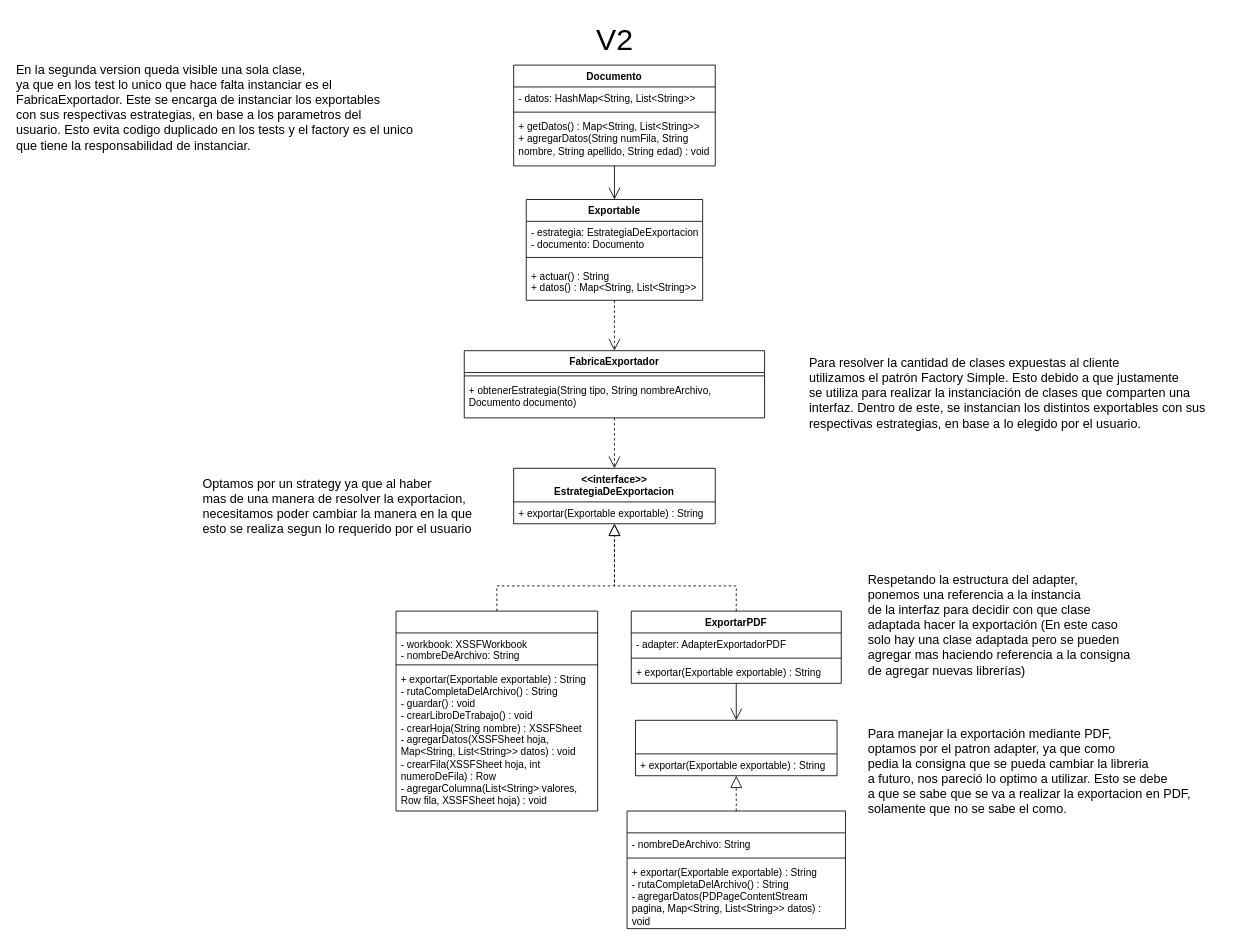
This 1242x945 diagram has some shape labels left out. Each missing label, with the box of its shape:
<<Interface>> AdapterExportadorPDF: (635, 719, 837, 776)
AdapterApachePDFBox: (626, 810, 845, 929)
ExportarAExcel: (395, 610, 598, 811)
